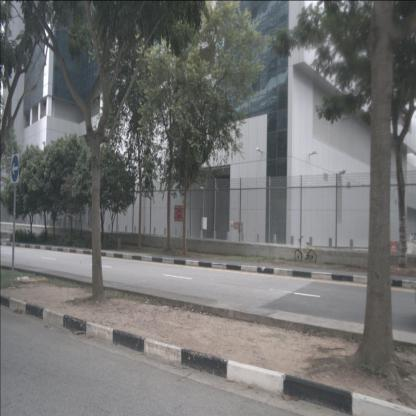barrier: (401, 241, 414, 255), (388, 241, 398, 254)
